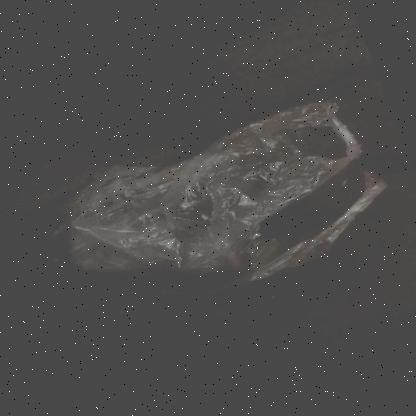Others: (67, 99, 386, 293)
